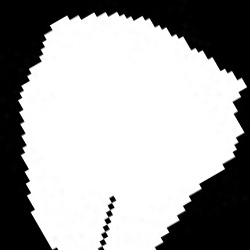spot: (18, 13, 243, 249)
